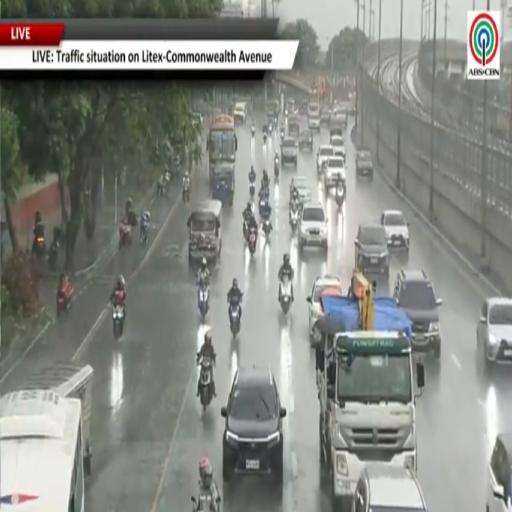bus: (0, 390, 84, 511)
car: (221, 366, 286, 482), (393, 269, 442, 359), (351, 462, 427, 511), (477, 297, 511, 363), (307, 276, 342, 340), (486, 432, 511, 511), (355, 223, 389, 277), (298, 202, 327, 250), (381, 210, 409, 251), (324, 156, 345, 190), (289, 175, 312, 204), (355, 150, 373, 180), (281, 136, 297, 166), (317, 144, 333, 171), (330, 135, 345, 159), (299, 130, 312, 151), (234, 103, 247, 123), (308, 112, 320, 131), (192, 111, 203, 129), (285, 99, 296, 115), (308, 102, 320, 116), (321, 107, 330, 124)
jeepney: (14, 362, 93, 475), (188, 200, 222, 262), (207, 115, 237, 184), (212, 163, 235, 205), (266, 101, 279, 122), (288, 116, 300, 137)
motorcycle: (197, 355, 214, 410), (191, 490, 220, 511), (47, 228, 61, 271), (57, 282, 73, 316), (280, 276, 291, 314), (113, 304, 124, 341), (198, 283, 209, 320), (230, 300, 240, 337), (157, 171, 171, 197), (48, 240, 59, 271), (119, 223, 131, 249), (33, 236, 45, 259), (248, 227, 257, 255), (289, 208, 299, 232), (335, 185, 345, 207), (262, 218, 271, 241), (140, 220, 148, 245), (182, 184, 190, 203), (259, 198, 267, 216), (242, 219, 248, 242), (274, 157, 279, 179), (249, 182, 255, 199), (268, 122, 273, 134), (251, 125, 255, 137), (280, 130, 284, 141), (263, 133, 267, 143)
truck: (314, 271, 416, 511)
